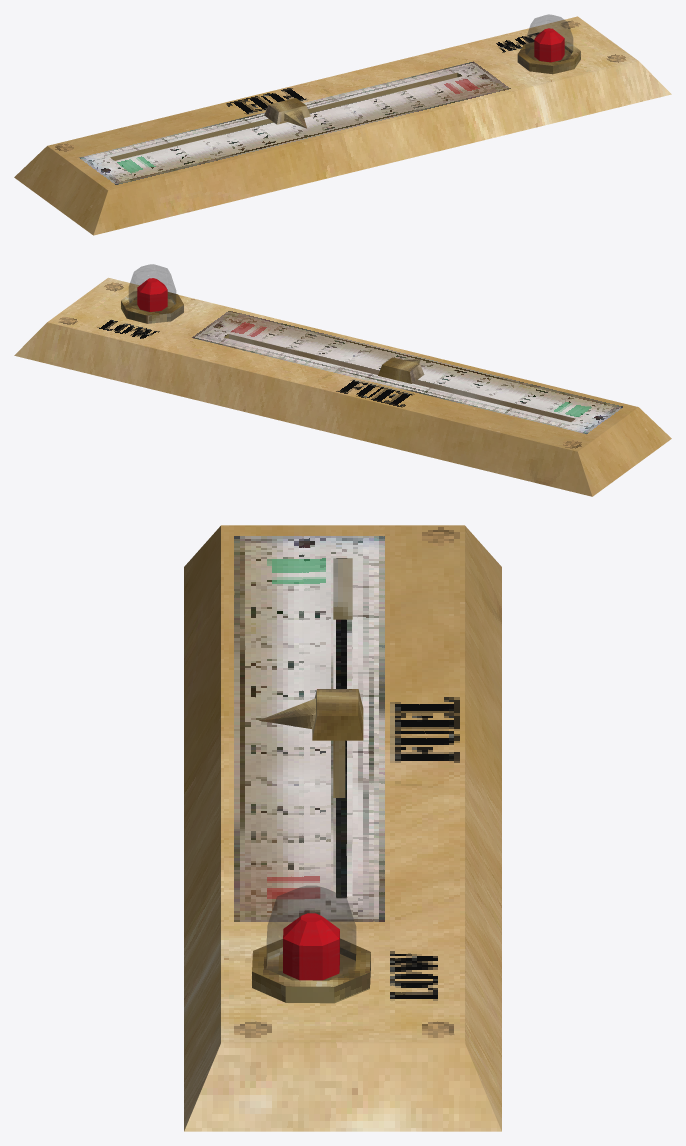
Rendered from fuel_meter.glb.
The picture shows the model from 3 angles, top to bottom: view 1: azimuth 30°, elevation 25°; view 2: azimuth 150°, elevation 25°; view 3: azimuth 270°, elevation 25°; orthographic projection. The views are drawn at different scales.
Parts seen in each view (by area): view 1: fuel_meter_body, fuel_meter_light_glass, fuel_meter_arrow; view 2: fuel_meter_body, fuel_meter_light_glass, fuel_meter_arrow; view 3: fuel_meter_body, fuel_meter_light_glass, fuel_meter_arrow.
Part boxes in pixels (bbox=[...]): fuel_meter_body: bbox=[14, 16, 671, 235]; fuel_meter_light_glass: bbox=[525, 14, 573, 62]; fuel_meter_arrow: bbox=[264, 98, 310, 128]; fuel_meter_body: bbox=[14, 277, 671, 496]; fuel_meter_light_glass: bbox=[129, 264, 176, 311]; fuel_meter_arrow: bbox=[378, 357, 424, 383]; fuel_meter_body: bbox=[184, 525, 501, 1131]; fuel_meter_light_glass: bbox=[267, 886, 356, 980]; fuel_meter_arrow: bbox=[259, 689, 363, 797].
Size of the model in its own units: 0.9406 by 0.1254 by 0.2238.
Materials: 3 (2 with a texture image).
